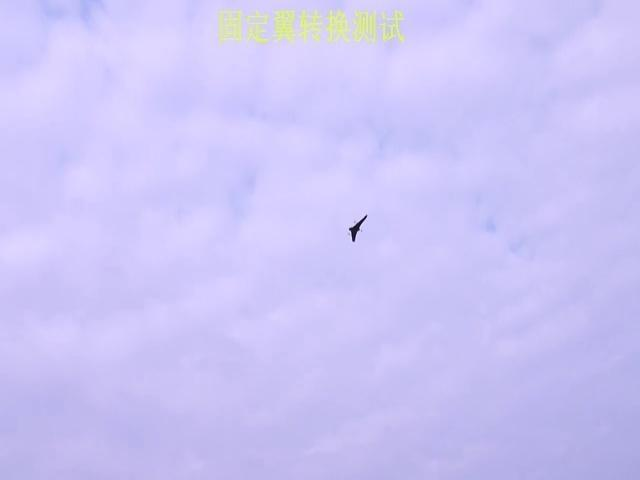Airplane: (348, 215, 368, 242)
